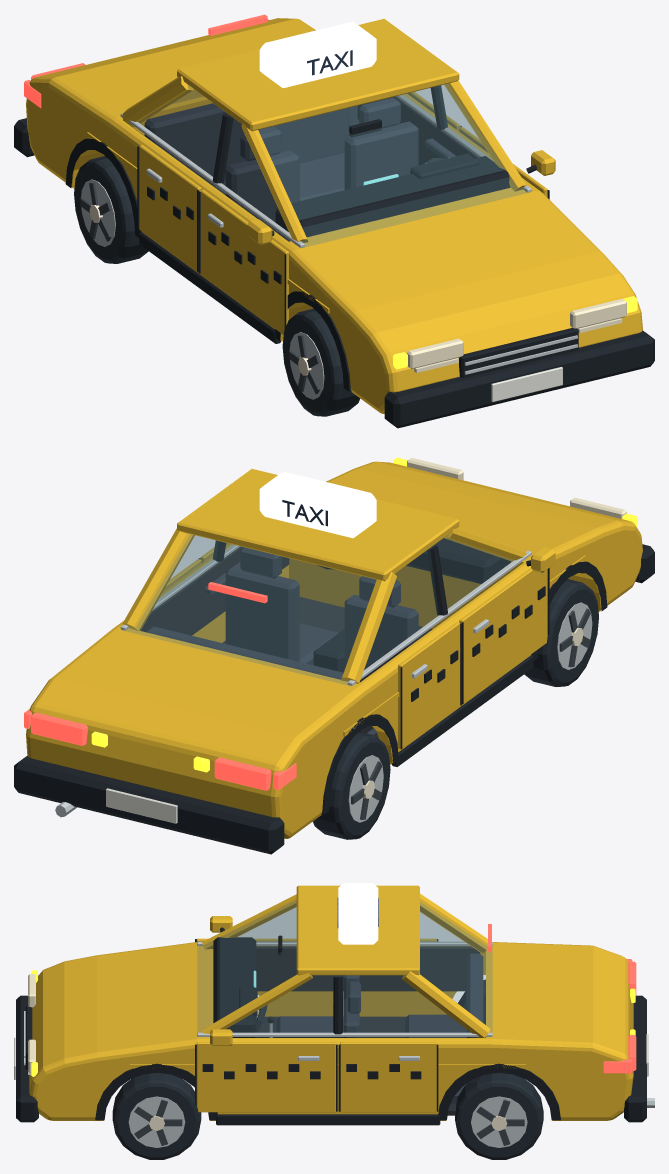
The model's file is Car_Taxi.fbx.
3 renders of one model, top to bottom at view 1: azimuth 30°, elevation 25°; view 2: azimuth 150°, elevation 25°; view 3: azimuth 270°, elevation 25°, orthographic. The views are drawn at different scales.
Parts seen in each view (by area): view 1: Body.006, WindowCabin.006, Roof.006, FrontBumper.006, Dashboard.006, DoorPanel_FR.006, RearSeatBack.004, TaxiRoofSign, DoorPanel_RR.005, SeatBack.012, Tire_FR.006, Tire_RR.006 (+21 smaller); view 2: Body.006, WindowCabin.006, Roof.006, RearBumper.006, DoorPanel_FR.006, SeatBack.012, TaxiRoofSign, DoorPanel_RR.005, Tire_RR.006, DoorTrim.012, Tire_FR.006, SeatBack.013 (+23 smaller); view 3: Body.006, WindowCabin.006, DoorPanel_FL.006, Roof.006, DoorPanel_RL.005, DoorTrim.013, Tire_RL.006, Tire_FL.006, Dashboard.006, SideSkirt_L.006, TaxiRoofSign, RearBumper.006 (+19 smaller).
Part boxes in pixels (x1,y1,x2,y2): Body.006: [26, 18, 642, 413]; WindowCabin.006: [138, 84, 526, 247]; Roof.006: [177, 18, 459, 131]; FrontBumper.006: [384, 330, 654, 428]; Dashboard.006: [275, 156, 510, 237]; DoorPanel_FR.006: [200, 190, 288, 334]; RearSeatBack.004: [144, 103, 349, 184]; TaxiRoofSign: [259, 21, 376, 87]; DoorPanel_RR.005: [139, 145, 201, 271]; SeatBack.012: [344, 121, 418, 189]; Tire_FR.006: [282, 308, 360, 416]; Tire_RR.006: [74, 156, 148, 263]; Body.006: [26, 461, 642, 838]; WindowCabin.006: [125, 534, 513, 684]; Roof.006: [177, 469, 459, 581]; RearBumper.006: [14, 755, 284, 854]; DoorPanel_FR.006: [459, 568, 547, 703]; SeatBack.012: [225, 565, 299, 661]; TaxiRoofSign: [259, 471, 376, 538]; DoorPanel_RR.005: [398, 622, 459, 749]; Tire_RR.006: [313, 732, 390, 839]; DoorTrim.012: [140, 546, 289, 635]; Tire_FR.006: [524, 579, 598, 686]; SeatBack.013: [344, 594, 418, 681]; Body.006: [29, 942, 633, 1120]; WindowCabin.006: [197, 900, 492, 1032]; DoorPanel_FL.006: [196, 1042, 336, 1112]; Roof.006: [296, 885, 419, 975]; DoorPanel_RL.005: [340, 1042, 436, 1112]; DoorTrim.013: [256, 946, 480, 991]; Tire_RL.006: [455, 1073, 543, 1159]; Tire_FL.006: [112, 1073, 201, 1159]; Dashboard.006: [213, 937, 256, 1037]; SideSkirt_L.006: [216, 1114, 440, 1125]; TaxiRoofSign: [338, 883, 378, 944]; RearBumper.006: [624, 995, 646, 1122].
Bounding box in the file's own units: 2.1 × 1.7 × 4.77.
